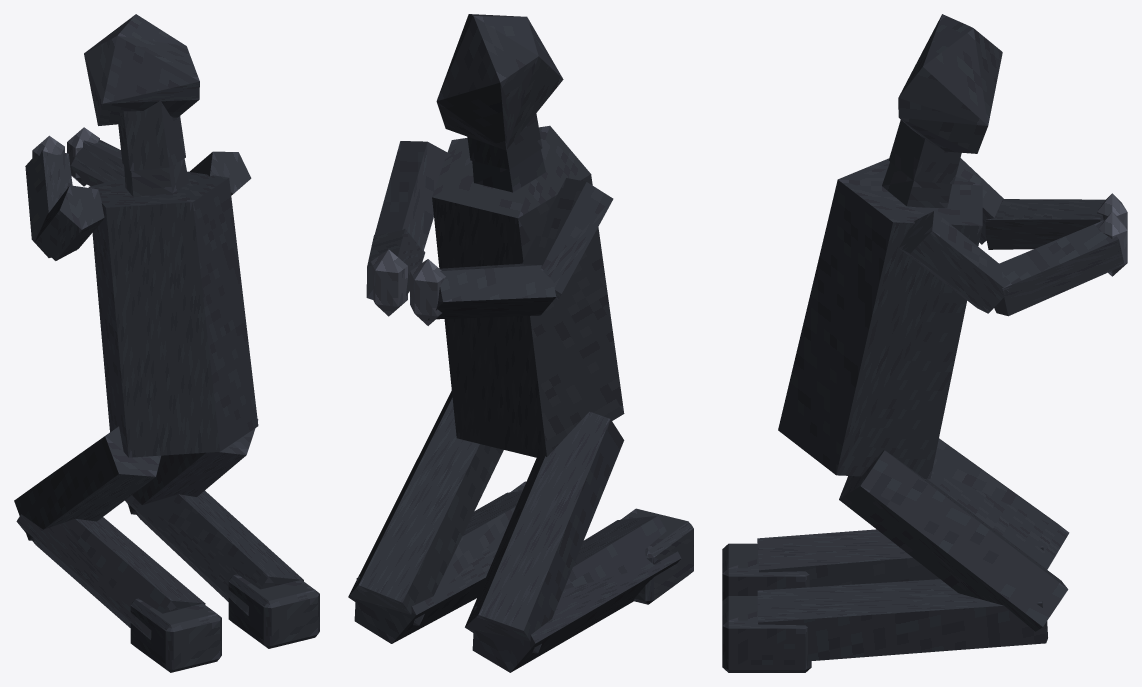
The model's file is f_glassedbody_4.glb.
The picture shows the model from 3 angles, left to right: view 1: azimuth 30°, elevation 25°; view 2: azimuth 150°, elevation 25°; view 3: azimuth 270°, elevation 25°; orthographic projection. The views are drawn at different scales.
Visible parts, largest first — view 1: block_angular-torso-1, block_faceted-glass-leg-1 (×2), block_faceted-glass-leg-2 (×2), block_solid-glass-foot (×2), block_angular-black-glass-head, block_angular-glass-arm-1 (×2), block_angular-glass-arm-2 (×2), block_vitrified-neck-2, block_vitrified-neck-1, block_glass-hand; view 2: block_angular-torso-1, block_faceted-glass-leg-2 (×2), block_faceted-glass-leg-1 (×2), block_angular-black-glass-head, block_angular-glass-arm-1 (×2), block_angular-glass-arm-2 (×2), block_glass-hand (×2), block_solid-glass-foot, block_vitrified-neck-2, block_vitrified-neck-1; view 3: block_angular-torso-1, block_faceted-glass-leg-1 (×2), block_faceted-glass-leg-2 (×2), block_angular-glass-arm-2 (×2), block_angular-black-glass-head, block_solid-glass-foot (×2), block_angular-glass-arm-1 (×2), block_vitrified-neck-2, block_vitrified-neck-1, block_glass-hand.
Part boxes in pixels (box(x1,y1,x2,y2)): block_angular-torso-1: box(88, 171, 258, 457); block_faceted-glass-leg-1 (×2): box(16, 490, 303, 639); block_faceted-glass-leg-2 (×2): box(14, 419, 258, 540); block_solid-glass-foot (×2): box(130, 574, 319, 672); block_angular-black-glass-head: box(84, 14, 199, 125); block_angular-glass-arm-1 (×2): box(35, 151, 251, 260); block_angular-glass-arm-2 (×2): box(25, 140, 124, 257); block_vitrified-neck-2: box(118, 99, 185, 170); block_vitrified-neck-1: box(124, 158, 188, 196); block_glass-hand: box(67, 127, 99, 186); block_angular-torso-1: box(432, 125, 624, 459); block_faceted-glass-leg-2 (×2): box(348, 390, 624, 653); block_faceted-glass-leg-1 (×2): box(354, 491, 681, 672); block_angular-black-glass-head: box(436, 14, 563, 150); block_angular-glass-arm-1 (×2): box(374, 141, 613, 300); block_angular-glass-arm-2 (×2): box(366, 229, 556, 319); block_glass-hand (×2): box(371, 249, 445, 325); block_solid-glass-foot: box(621, 508, 693, 604); block_vitrified-neck-2: box(467, 113, 542, 169); block_vitrified-neck-1: box(472, 149, 545, 192); block_angular-torso-1: box(778, 158, 982, 479); block_faceted-glass-leg-1 (×2): box(757, 529, 1047, 661); block_faceted-glass-leg-2 (×2): box(839, 438, 1069, 631); block_angular-glass-arm-2 (×2): box(985, 199, 1124, 316); block_angular-black-glass-head: box(898, 14, 1002, 153); block_solid-glass-foot (×2): box(722, 543, 811, 672); block_angular-glass-arm-1 (×2): box(899, 158, 1008, 313); block_vitrified-neck-2: box(888, 120, 961, 184); block_vitrified-neck-1: box(882, 162, 951, 208); block_glass-hand: box(1099, 212, 1127, 276).
Size of the model in its own units: 0.4187 by 1.2 by 0.7212.
1 material, 1 textured.
